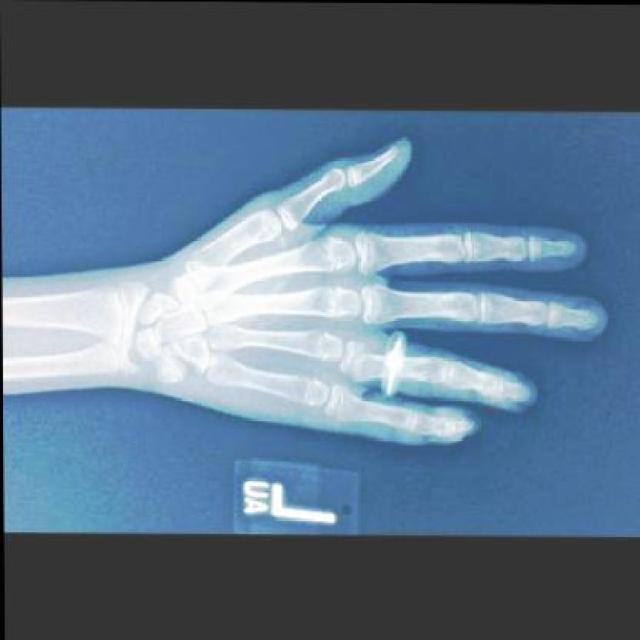Fracture: (341, 335, 378, 382)
